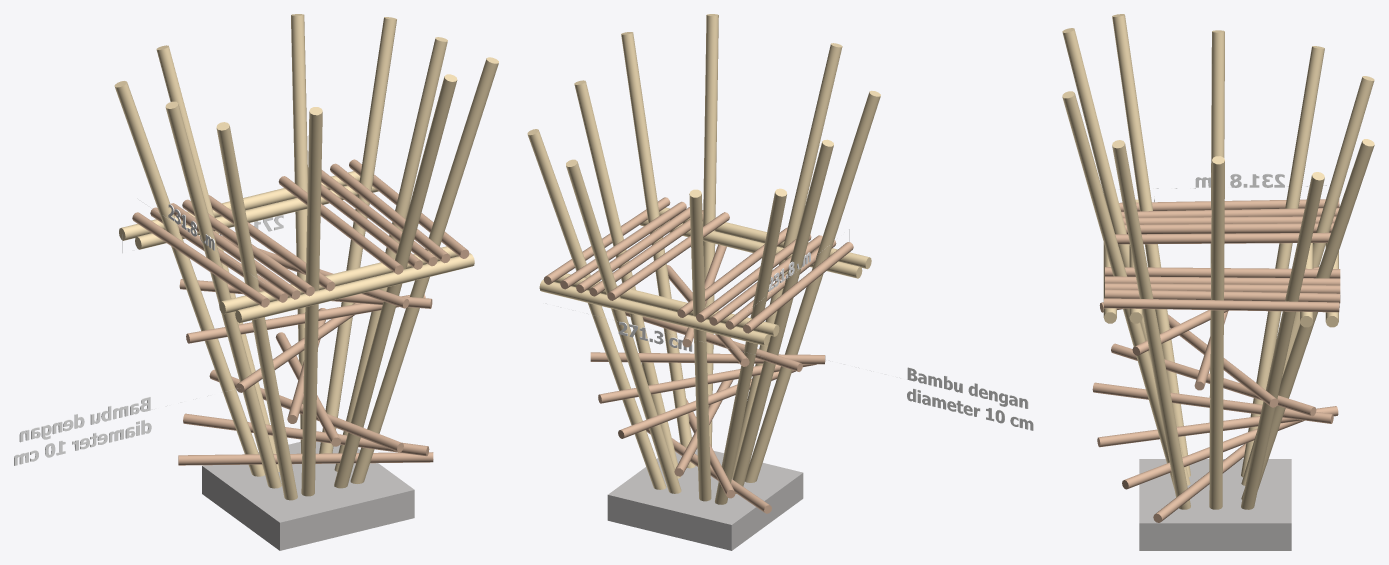
3 renders of one model, left to right at view 1: azimuth 30°, elevation 25°; view 2: azimuth 150°, elevation 25°; view 3: azimuth 270°, elevation 25°, orthographic. The views are drawn at different scales.
Parts seen in each view (by area): view 1: Group35, Group9, Group7, Group4, Group8, Group3, Group2, Group5, Group6, Group11, Group13, Bambu_dengan_dia1 (+22 smaller); view 2: Group35, Group2, Group5, Group3, Group7, Group11, Group10, Group4, Group6, Group9, Group8, Group14 (+23 smaller); view 3: Group35, Group7, Group6, Group5, Group2, Group9, Group4, Group11, Group8, Group10, Group19, Group3 (+19 smaller).
Boxes of the visible parts, x1=… form: Group35: x1=202, y1=441, x2=414, y2=550; Group9: x1=334, y1=74, x2=457, y2=488; Group7: x1=350, y1=57, x2=498, y2=483; Group4: x1=114, y1=81, x2=264, y2=476; Group8: x1=301, y1=107, x2=322, y2=496; Group3: x1=165, y1=101, x2=281, y2=488; Group2: x1=216, y1=122, x2=297, y2=500; Group5: x1=319, y1=17, x2=396, y2=453; Group6: x1=334, y1=37, x2=447, y2=471; Group11: x1=291, y1=14, x2=307, y2=453; Group13: x1=235, y1=253, x2=474, y2=323; Bambu_dengan_dia1: x1=14, y1=397, x2=151, y2=465; Group35: x1=607, y1=442, x2=803, y2=550; Group2: x1=745, y1=90, x2=880, y2=482; Group5: x1=527, y1=129, x2=666, y2=489; Group3: x1=732, y1=139, x2=833, y2=493; Group7: x1=621, y1=32, x2=695, y2=468; Group11: x1=566, y1=159, x2=681, y2=493; Group10: x1=689, y1=189, x2=711, y2=501; Group4: x1=715, y1=188, x2=786, y2=504; Group6: x1=574, y1=80, x2=680, y2=478; Group9: x1=703, y1=14, x2=718, y2=446; Group8: x1=732, y1=43, x2=842, y2=478; Group14: x1=539, y1=280, x2=769, y2=346; Group35: x1=1139, y1=459, x2=1291, y2=550; Group7: x1=1112, y1=140, x2=1190, y2=509; Group6: x1=1209, y1=156, x2=1224, y2=509; Group5: x1=1241, y1=172, x2=1324, y2=509; Group2: x1=1112, y1=14, x2=1190, y2=477; Group9: x1=1062, y1=91, x2=1190, y2=499; Group4: x1=1241, y1=46, x2=1324, y2=477; Group11: x1=1241, y1=139, x2=1374, y2=499; Group8: x1=1062, y1=28, x2=1190, y2=485; Group10: x1=1241, y1=76, x2=1374, y2=485; Group19: x1=1104, y1=298, x2=1339, y2=312; Group3: x1=1209, y1=30, x2=1224, y2=470.
Bounding box in the file's own units: 518 × 497 × 308.
